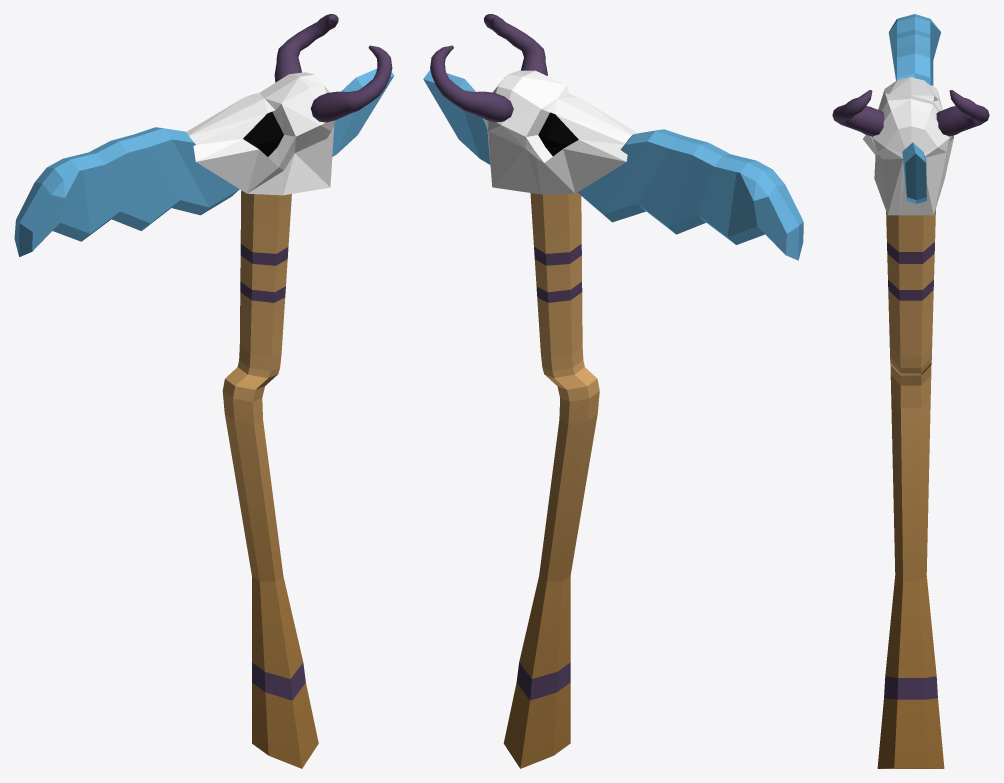
Rendered from Asa.fbx.
3 views of the same model, side by side, from view 1: azimuth 30°, elevation 25°; view 2: azimuth 150°, elevation 25°; view 3: azimuth 270°, elevation 25° (orthographic).
Visible parts, largest first — view 1: Cube, Buz; view 2: Cube, Buz; view 3: Cube, Buz.
Part boxes in pixels (x1,y1,x2,y2): Cube: (186,14,392,768); Buz: (14,68,394,256); Cube: (430,14,637,768); Buz: (423,70,803,260); Cube: (832,77,989,768); Buz: (888,14,940,203).
Size of the model in its own units: 16.28 by 29.86 by 5.99.
Materials: 1 (1 with a texture image).
